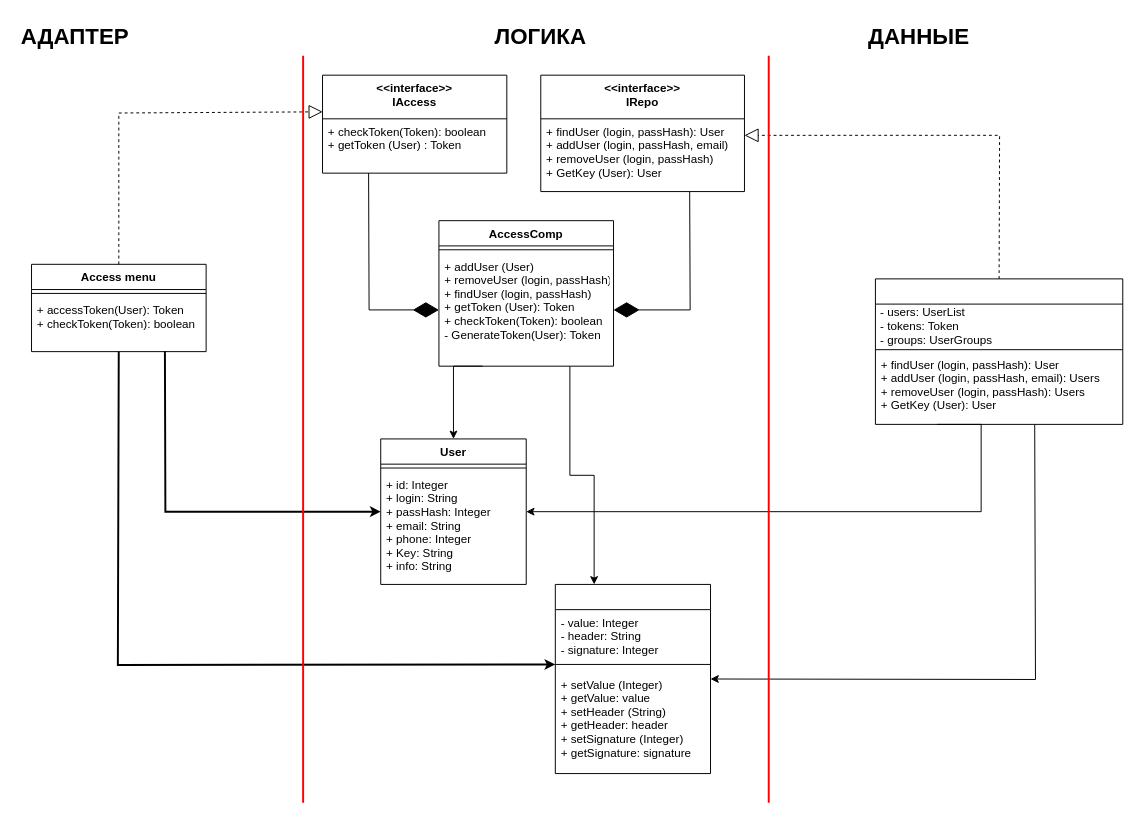
Some shapes in this 1140 by 821 pixel diagram are drawn without their labels. The shapes that lost their labels are listed below. From the top down, each one's box as (x1, y1, x2, y2) in pixels, then its label:
(874, 278, 1123, 424): Access repo
(554, 583, 711, 774): Token
